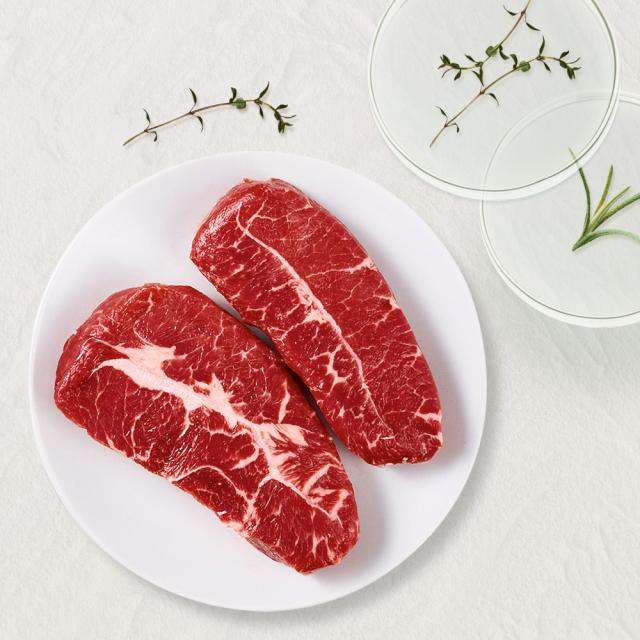beef: (58, 175, 448, 576)
